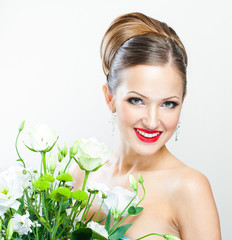teen: (98, 32, 188, 155)
